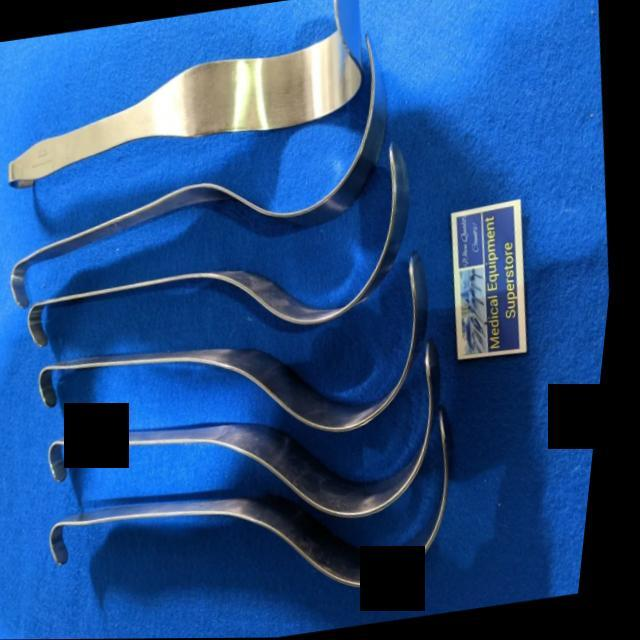Deaver Retractor: (0, 33, 443, 322), (29, 324, 486, 569), (0, 146, 480, 378), (22, 408, 494, 640), (16, 267, 448, 470), (0, 0, 393, 203)
